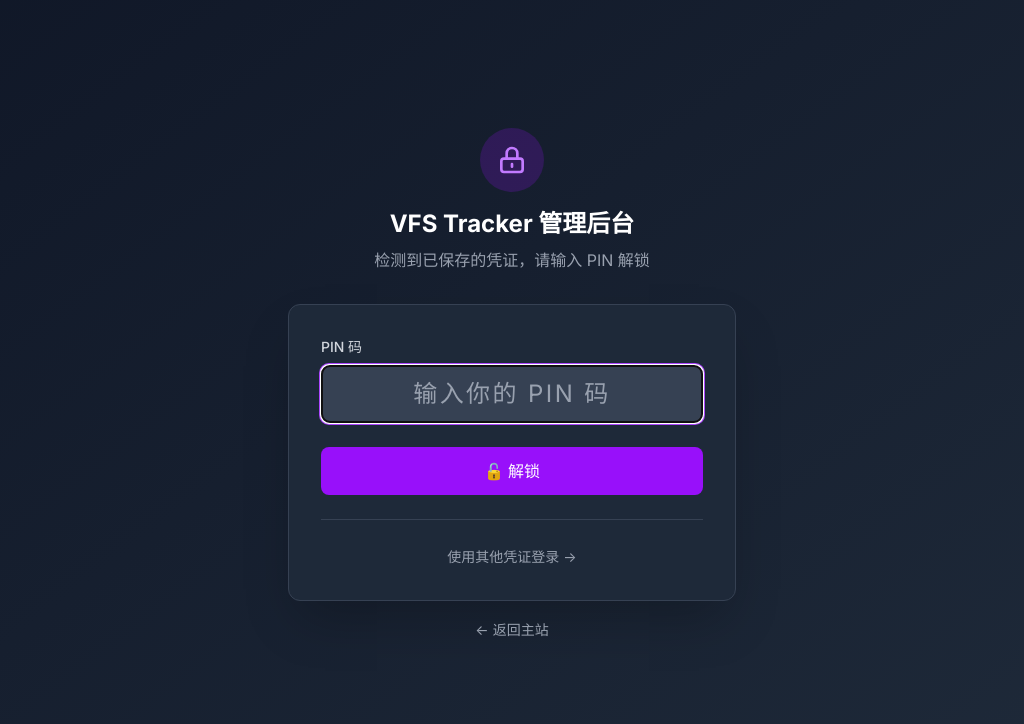
Test: AWSClientProvider PIN 解锁 › 用户主动改用其他凭证时，通过上下文同步清除状态
The width and height of the screenshot is (1024, 724).
Step 1. Click the button "使用其他凭证登录 →" → (512, 556), box x1=321 y1=546 x2=703 y2=566
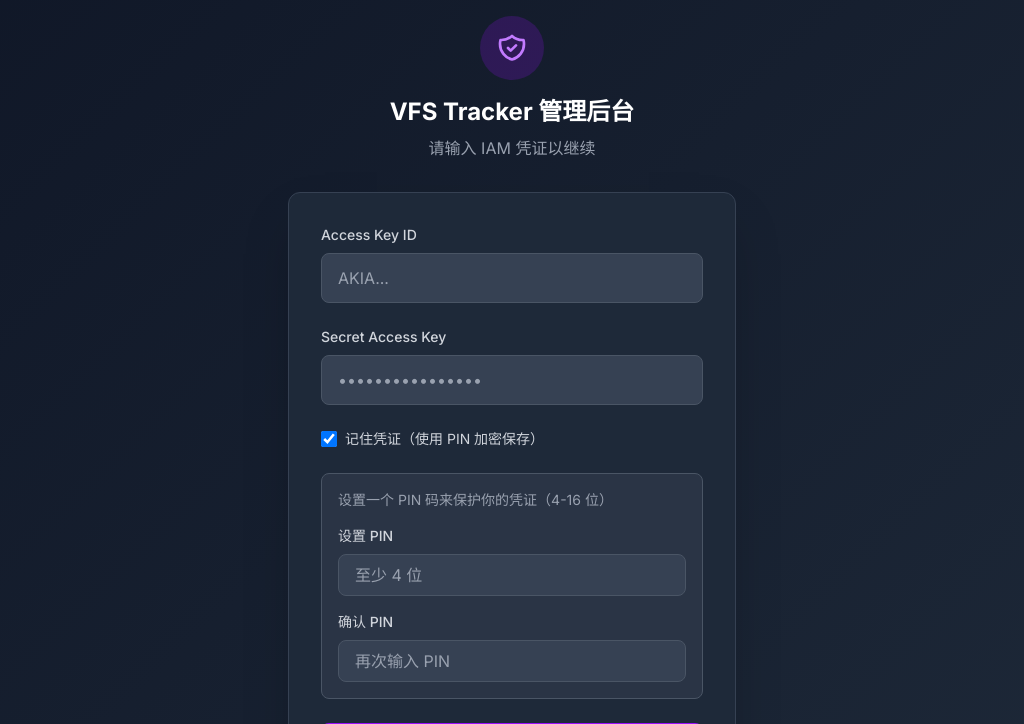
Expected: the text "请输入 IAM 凭证以继续" is shown, x1=429 y1=138 x2=595 y2=158
